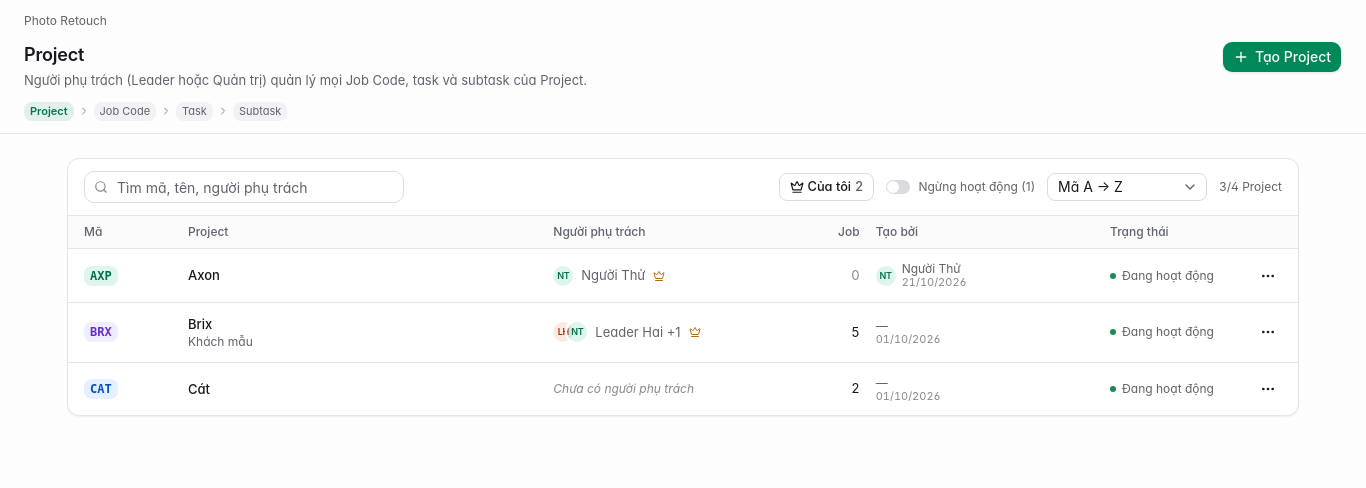
Test case: /production/projects (PD-078, PD-079) › lists the active Projects by code with every owner, job count, creator and state; inactive ones on request
This screenshot has width=1366, height=488.
Expected: the text "Axon" is shown, [188, 266, 220, 285]
Expected: the heading "Project" is shown, [24, 44, 84, 65]
Click the switch.
click(898, 187)  # box [886, 180, 910, 194]
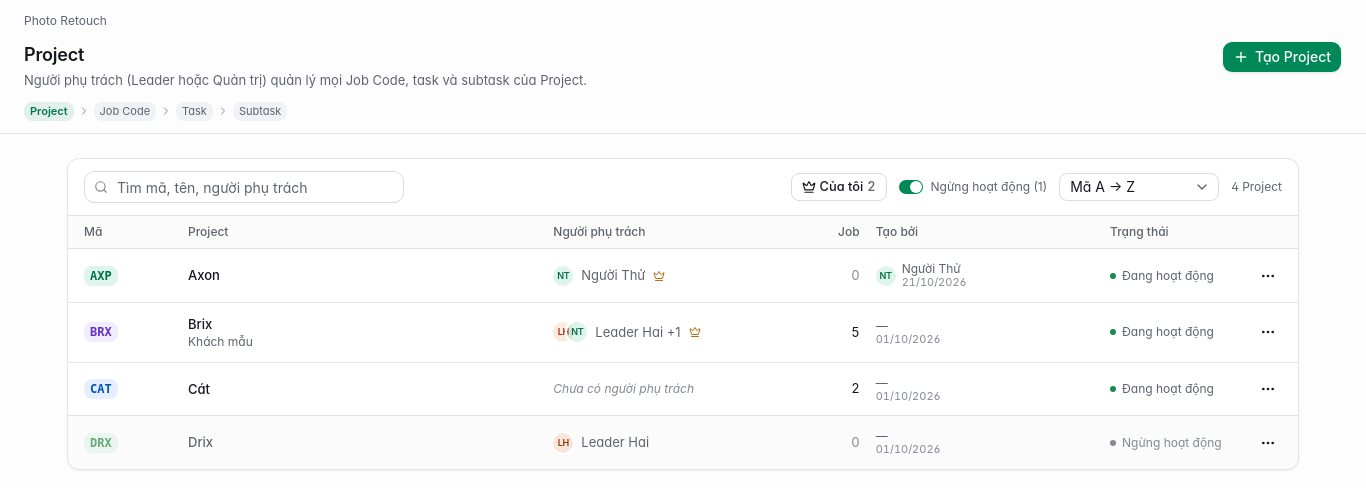
Expected: the text "Drix" is shown, [188, 434, 213, 450]
Expected: the text "Ngừng hoạt động" is shown, [1122, 435, 1222, 451]
